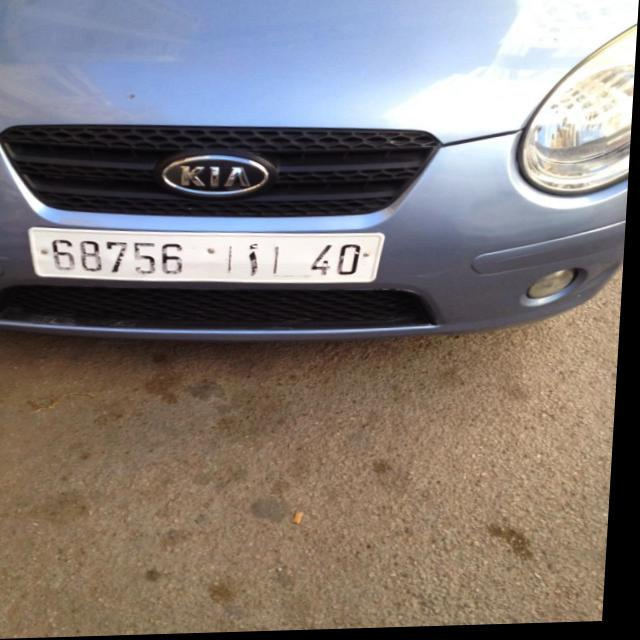License-Plate: (33, 227, 388, 286)
